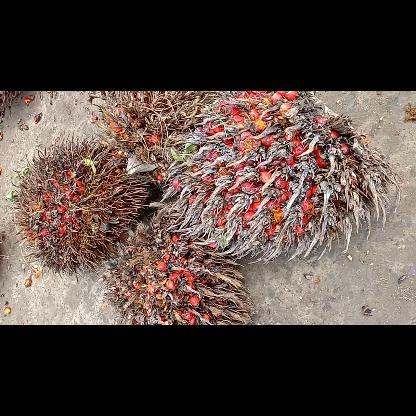Terlalu masak: (150, 91, 404, 267), (11, 135, 156, 281), (101, 220, 261, 324), (90, 90, 222, 192)
